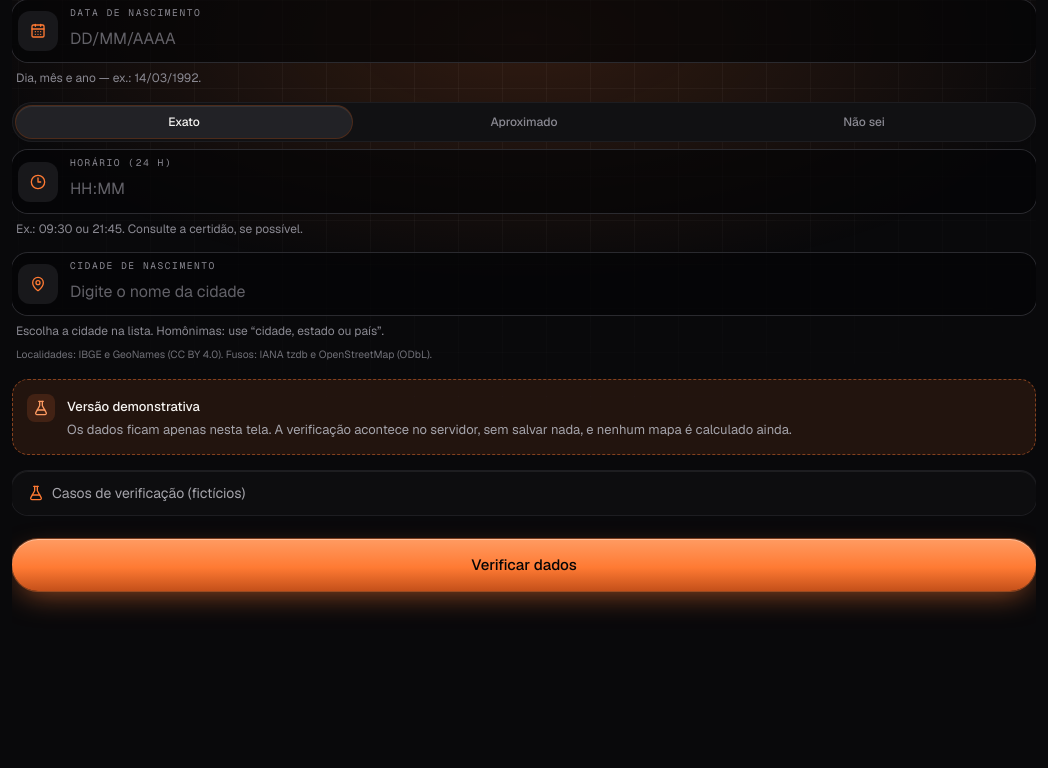
Test: BirthDataForm › mostra erros ao enviar vazio e exige selecionar a cidade
The image size is (1048, 768).
Click the button "Verificar dados" at (524, 565), box x1=12 y1=539 x2=1036 y2=591
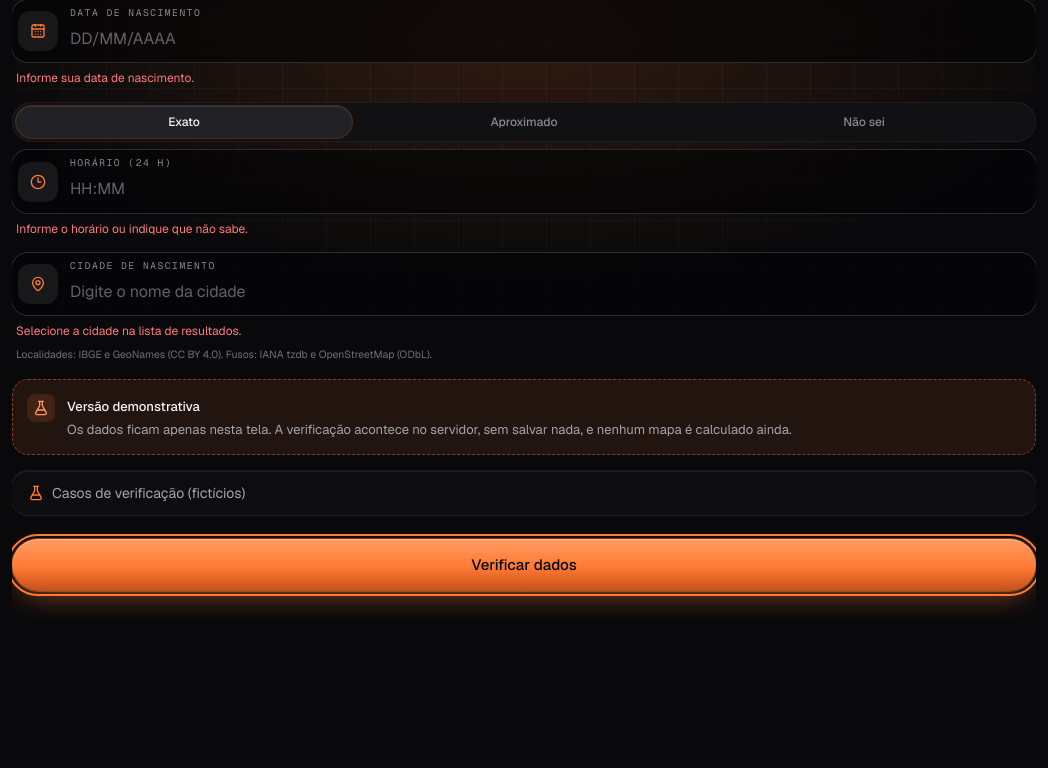
Result: the text "Informe sua data de nascimento." is shown at x1=16 y1=70 x2=194 y2=86
Result: the text "Selecione a cidade na lista de resultados." is shown at x1=16 y1=323 x2=241 y2=339
